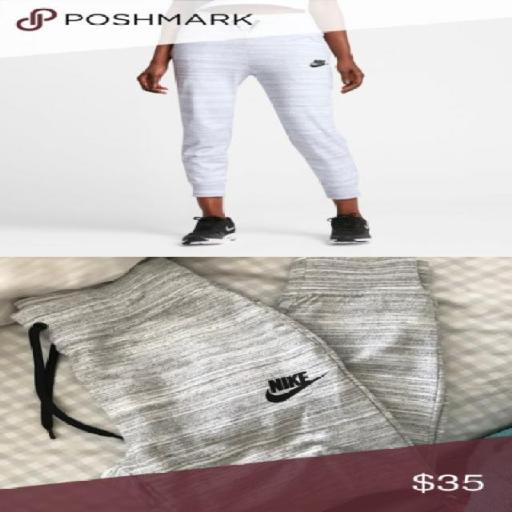Nike: (265, 384, 315, 404), (266, 372, 312, 392)
